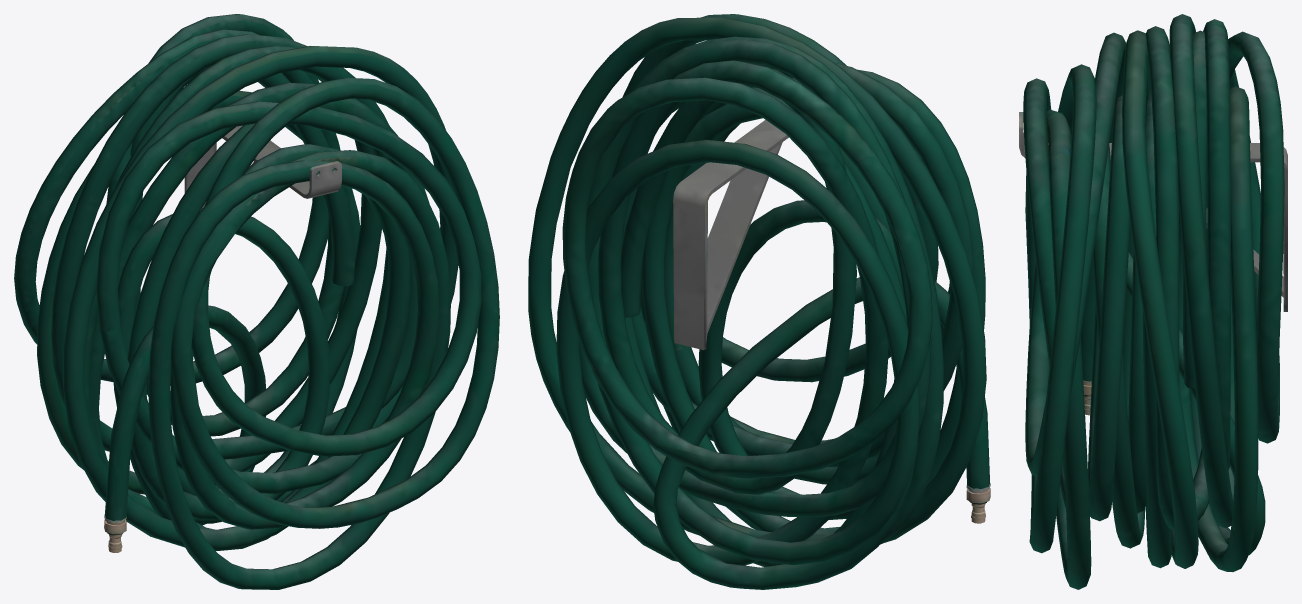
File: garden_hose_wall_mounted_01.glb
3 views of the same model, side by side, from view 1: azimuth 30°, elevation 25°; view 2: azimuth 150°, elevation 25°; view 3: azimuth 270°, elevation 25° (orthographic). The views are drawn at different scales.
Parts seen in each view (by area): view 1: garden_hose_wall_bracket; view 2: garden_hose_wall_bracket; view 3: garden_hose_wall_bracket.
Boxes of the visible parts, x1,y1,x2,y2 form: garden_hose_wall_bracket: (14, 14, 499, 589); garden_hose_wall_bracket: (528, 14, 990, 589); garden_hose_wall_bracket: (1019, 14, 1287, 589).
Bounding box in the file's own units: 0.4667 × 0.557 × 0.2503.
1 material, 1 textured.
